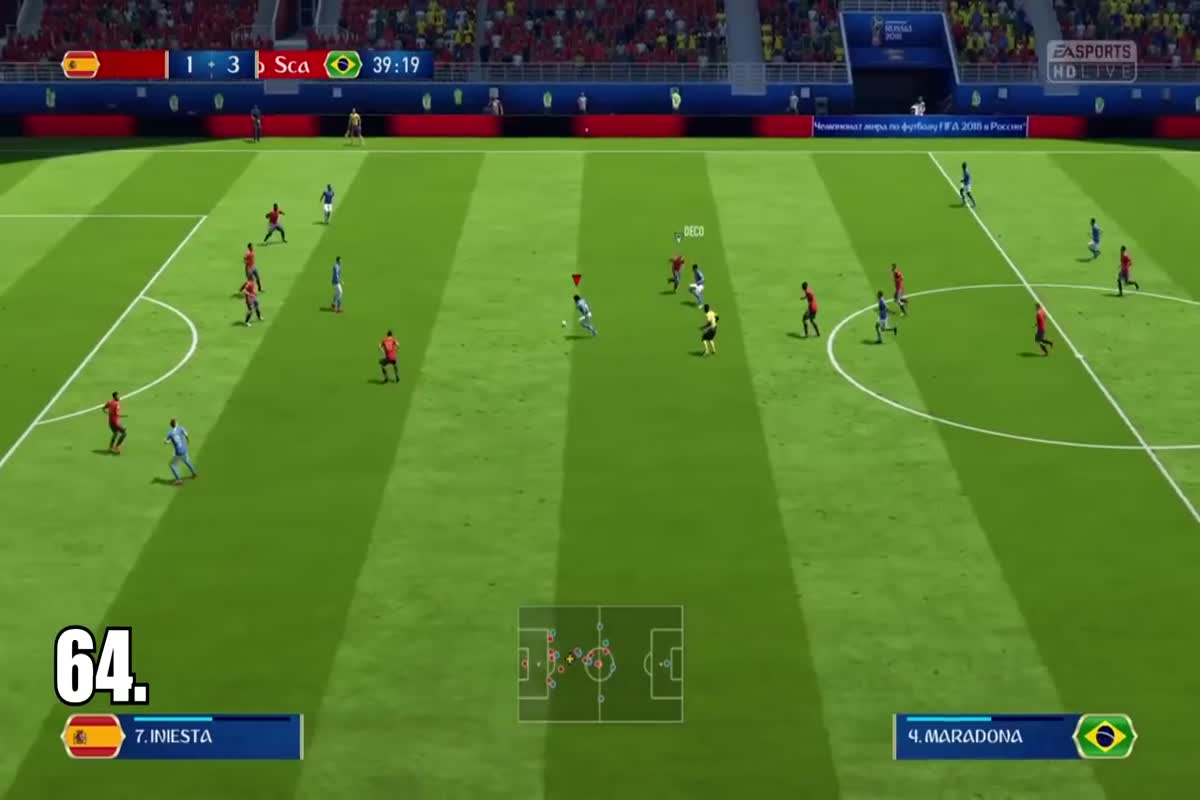ball: (551, 315, 570, 333)
